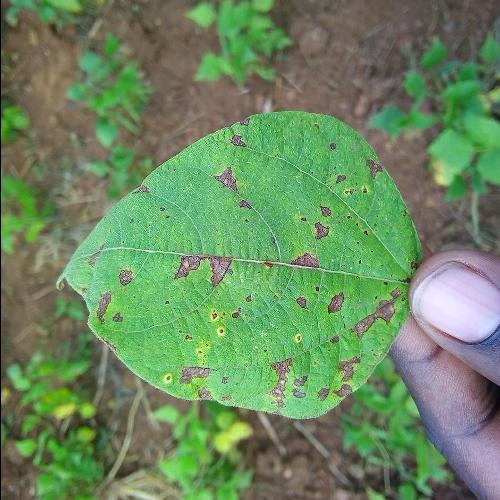hawar: (264, 278, 412, 416), (83, 231, 130, 334), (162, 338, 224, 410), (166, 242, 242, 295), (212, 168, 259, 228), (226, 116, 258, 156), (306, 202, 335, 242), (288, 246, 322, 268), (124, 183, 157, 203), (366, 156, 384, 187), (328, 165, 347, 188)
